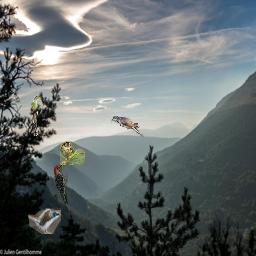Cuckoo: (111, 116, 144, 138), (32, 96, 40, 136)
Sparrow: (60, 141, 85, 165)
Swallow: (28, 208, 61, 234)
Woodpecker: (54, 164, 68, 204)
